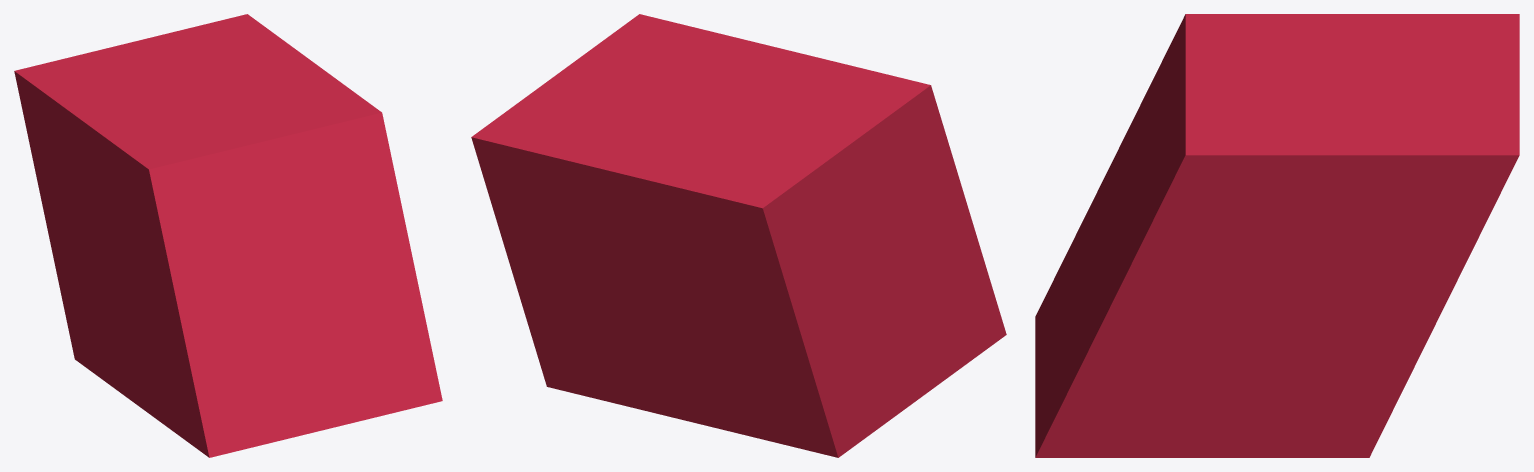
The model's file is jajar genjang.fbx.
3 renders of one model, left to right at view 1: azimuth 30°, elevation 25°; view 2: azimuth 150°, elevation 25°; view 3: azimuth 270°, elevation 25°, orthographic. The views are drawn at different scales.
Parts seen in each view (by area): view 1: Cube; view 2: Cube; view 3: Cube.
Boxes of the visible parts, bbox=[...] form: Cube: bbox=[14, 14, 442, 457]; Cube: bbox=[471, 14, 1006, 457]; Cube: bbox=[1035, 14, 1519, 457].
Size of the model in its own units: 200 by 200 by 290.
